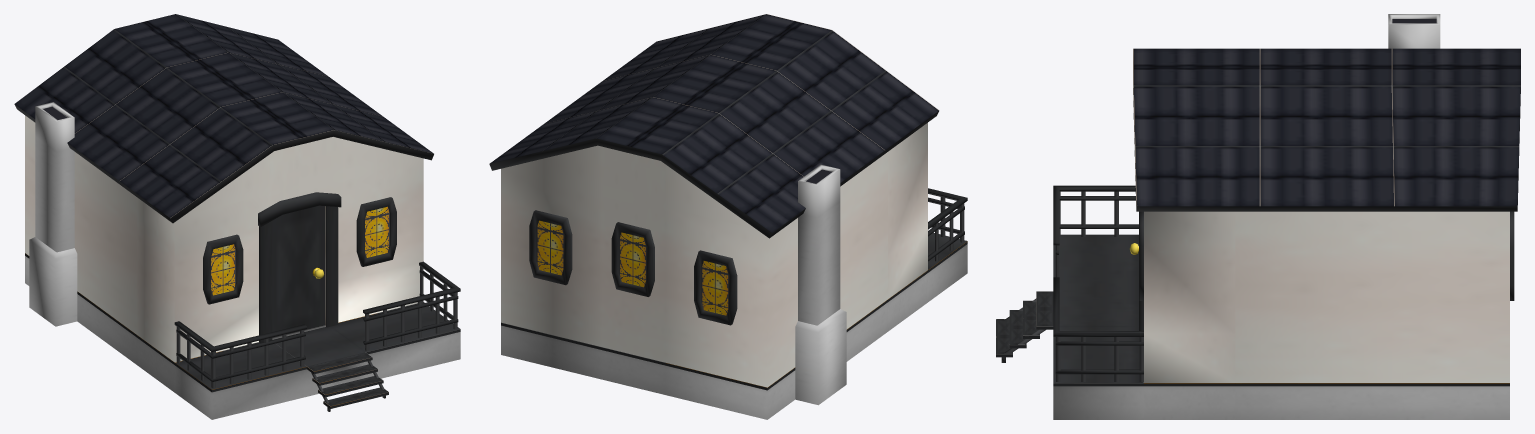
The model's file is Town Houses Variant 2 (Blue).fbx.
The picture shows the model from 3 angles, left to right: view 1: azimuth 30°, elevation 25°; view 2: azimuth 150°, elevation 25°; view 3: azimuth 270°, elevation 25°; orthographic projection. The views are drawn at different scales.
Visible parts, largest first — view 1: Town House 2 V3; view 2: Town House 2 V3; view 3: Town House 2 V3.
Part boxes in pixels (x1,y1,x2,y2): Town House 2 V3: (14,14,460,419); Town House 2 V3: (489,14,967,419); Town House 2 V3: (996,14,1520,419).
Size of the model in its own units: 625 by 490 by 836.
Materials: 1 (1 with a texture image).
